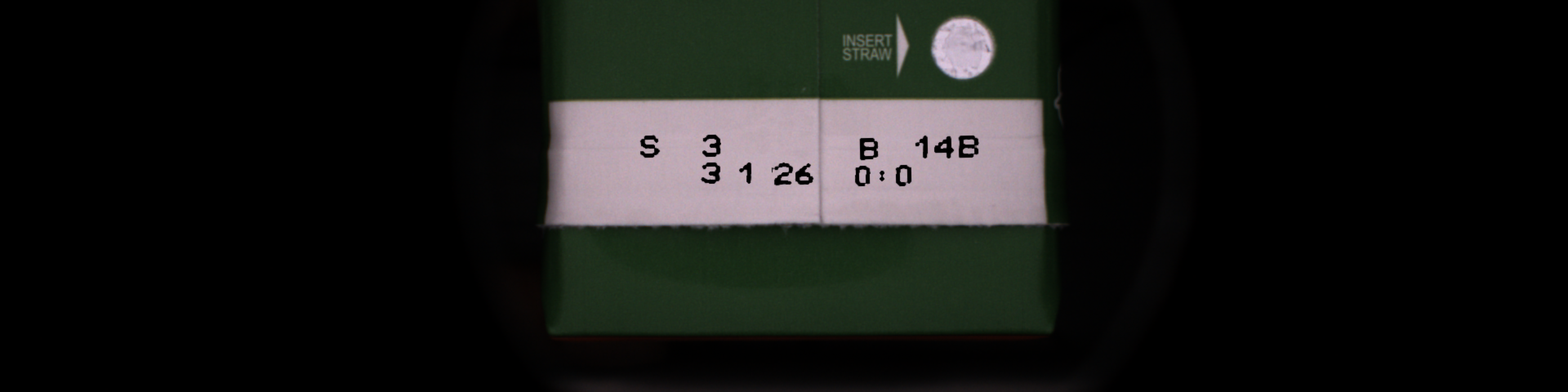date: (956, 133, 982, 162), (932, 132, 957, 161), (638, 132, 662, 161), (794, 159, 817, 188), (699, 160, 722, 188), (858, 135, 880, 163), (772, 159, 794, 187), (700, 132, 721, 159), (914, 133, 932, 162), (894, 162, 912, 190), (853, 162, 872, 188), (739, 160, 755, 187), (875, 164, 889, 187)
